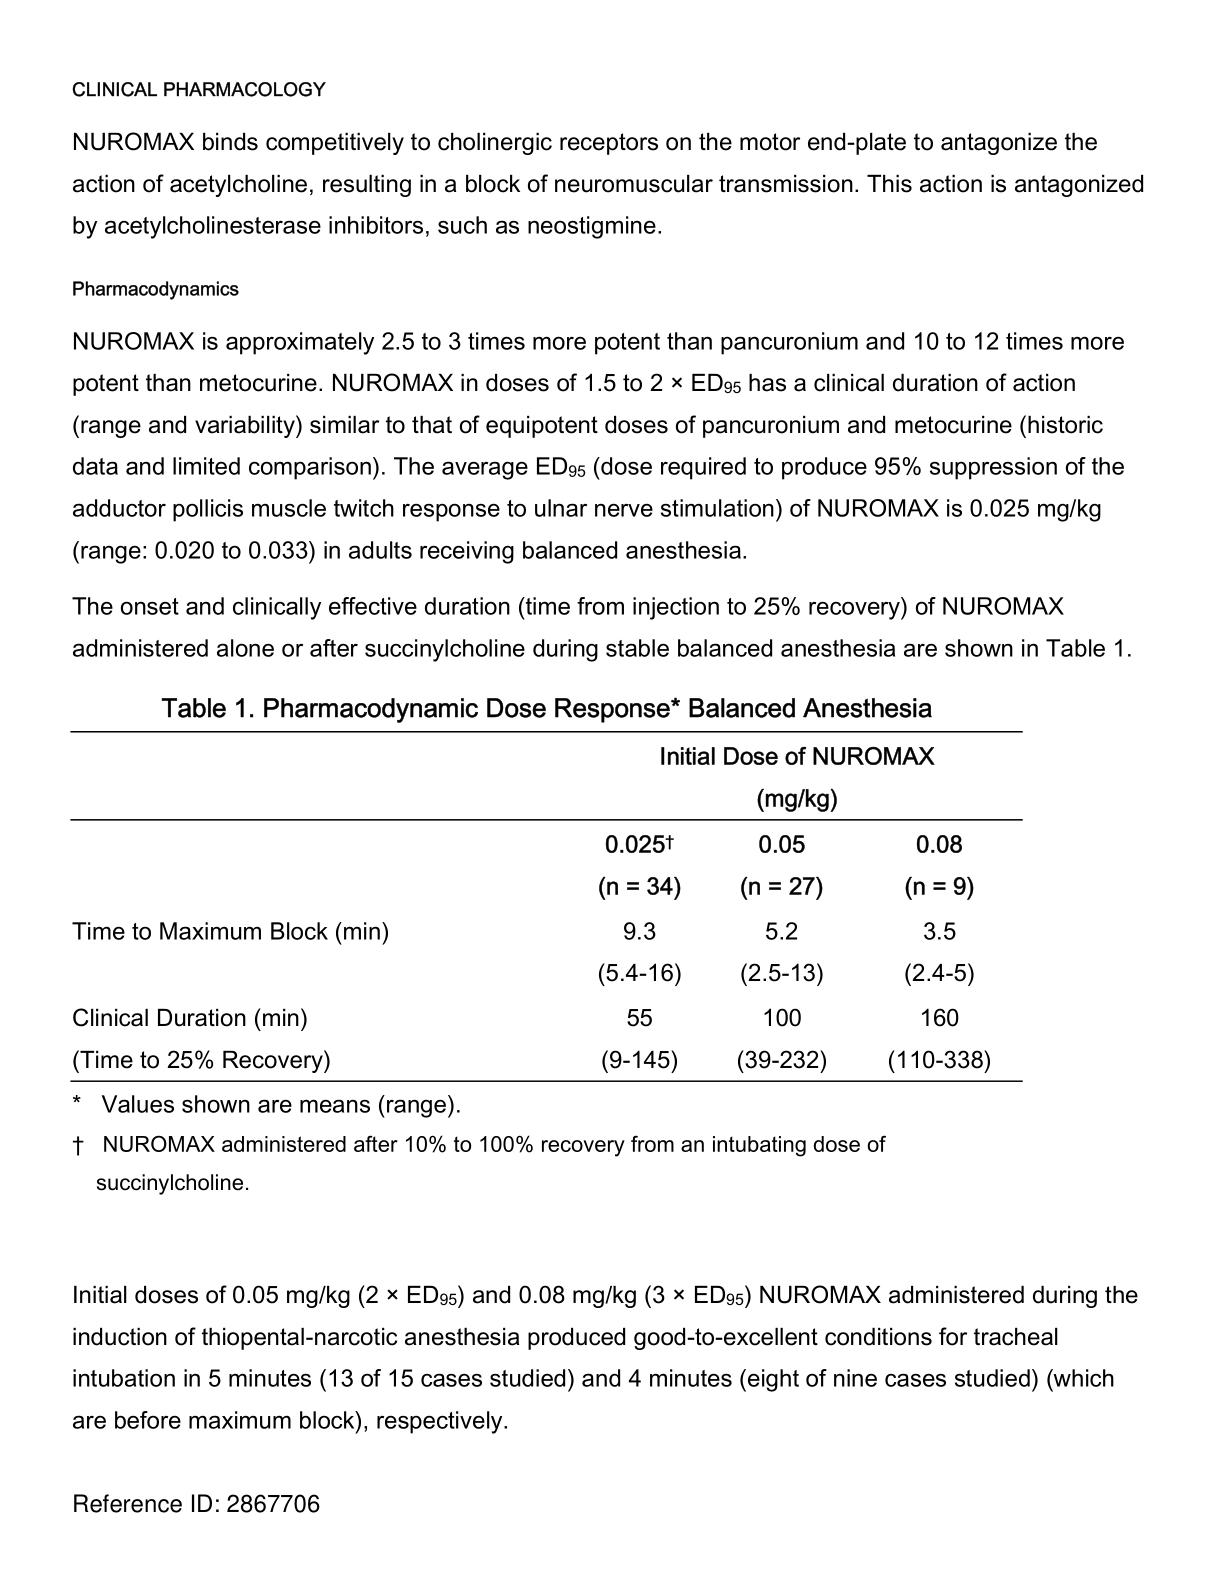partial_lined_merged_cells: (68, 730, 1023, 1083)
